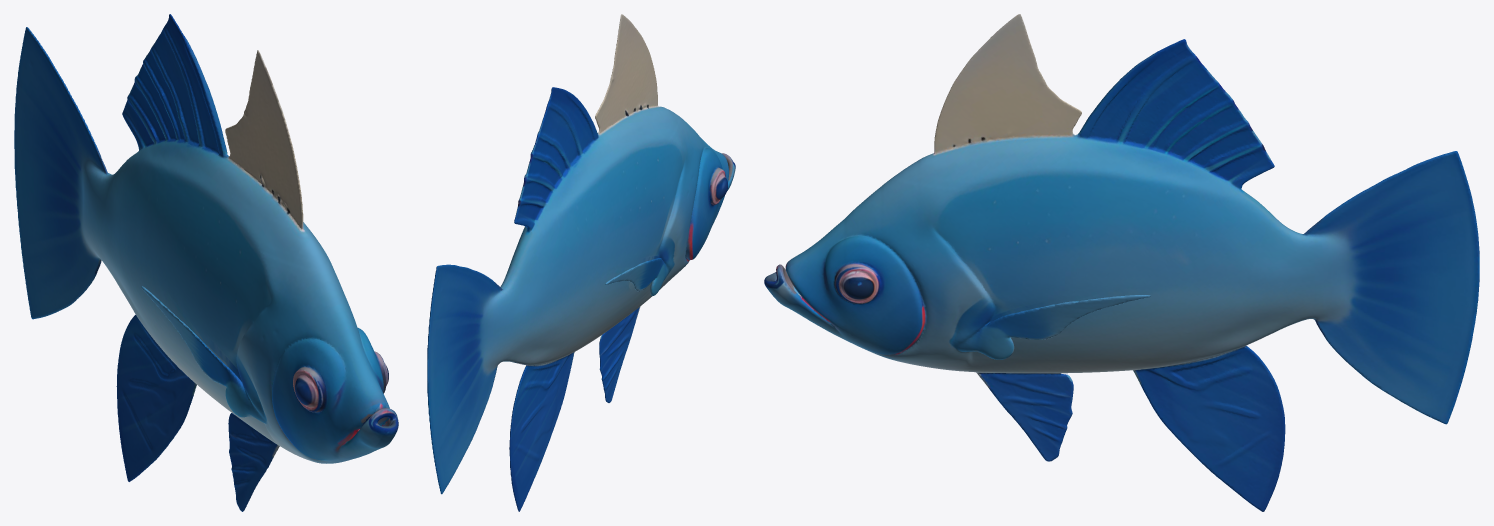
File: tripo_pbr_model_bd40bf39-3569-4202-9805-5bc2b800aa66.glb
3 views of the same model, side by side, from view 1: azimuth 30°, elevation 25°; view 2: azimuth 150°, elevation 25°; view 3: azimuth 270°, elevation 25° (orthographic). The views are drawn at different scales.
Parts seen in each view (by area): view 1: tripo_node_bd40bf39-3569-4202-9805-5bc2b800aa66; view 2: tripo_node_bd40bf39-3569-4202-9805-5bc2b800aa66; view 3: tripo_node_bd40bf39-3569-4202-9805-5bc2b800aa66.
Boxes of the visible parts, x1,y1,x2,y2 form: tripo_node_bd40bf39-3569-4202-9805-5bc2b800aa66: (14,14,398,511); tripo_node_bd40bf39-3569-4202-9805-5bc2b800aa66: (427,14,735,511); tripo_node_bd40bf39-3569-4202-9805-5bc2b800aa66: (764,14,1479,511).
Size of the model in its own units: 0.1503 by 0.7688 by 1.
1 material, 1 textured.
